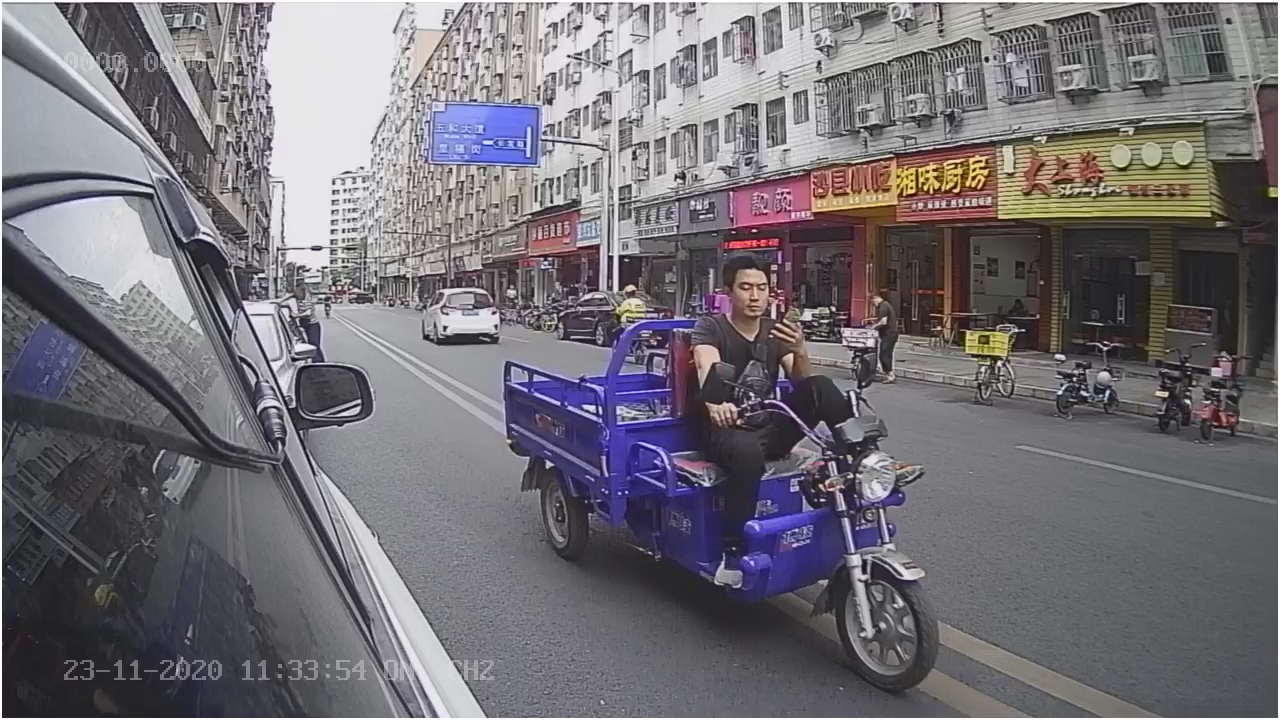person: (683, 252, 826, 420)
